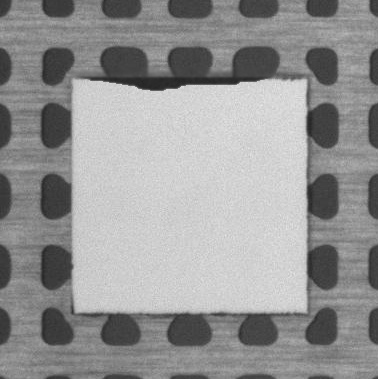DIE_BROKEN: (86, 71, 260, 95)
